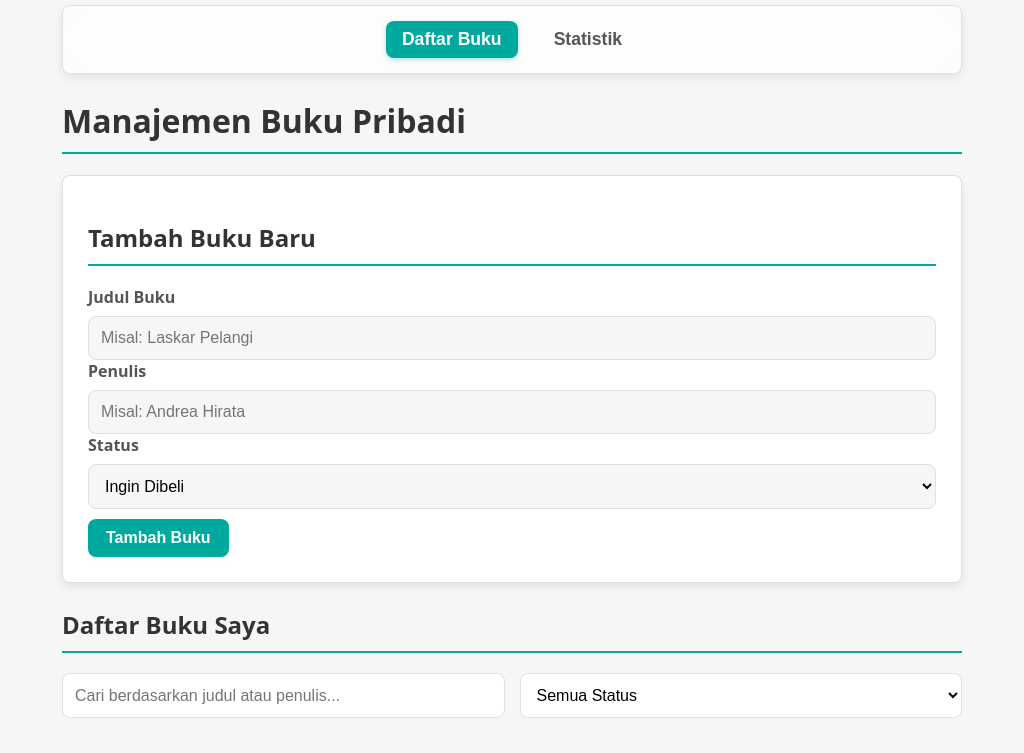
Test: Aplikasi Manajemen Buku (dengan User-Event) › 2. Penambahan buku baru melalui form
The width and height of the screenshot is (1024, 753).
Type "Buku Tes 1" into the field labelled "Judul Buku" at (512, 338), box [88,316,936,360]
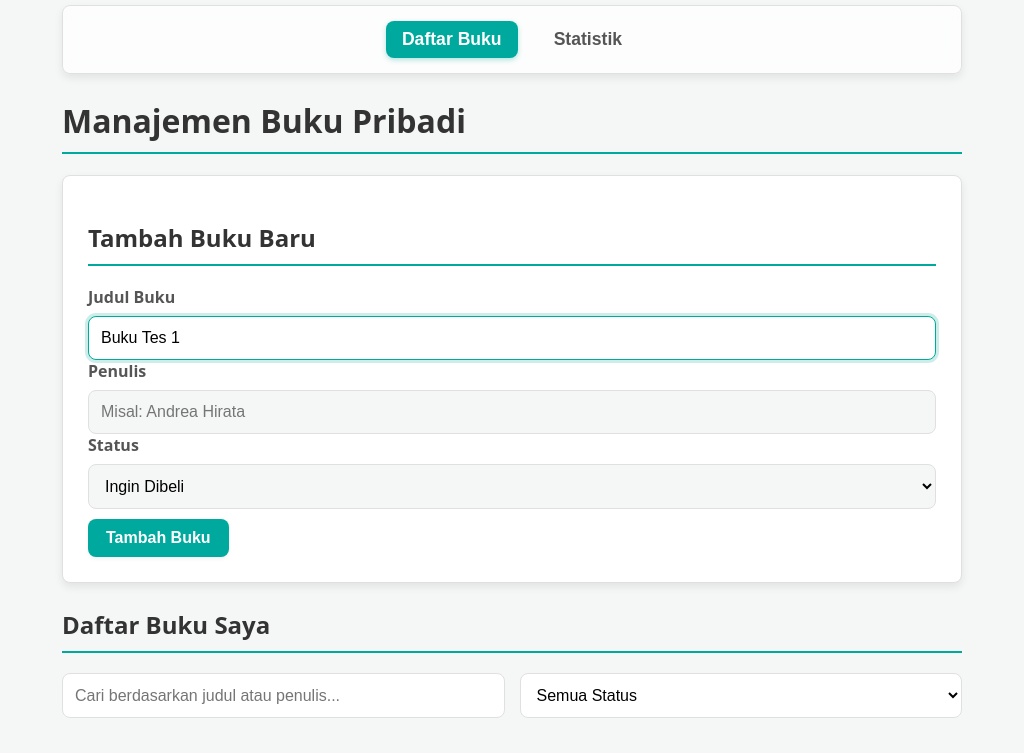
Type "Penulis Tes" into the field labelled "Penulis" at (512, 412), box [88,390,936,434]
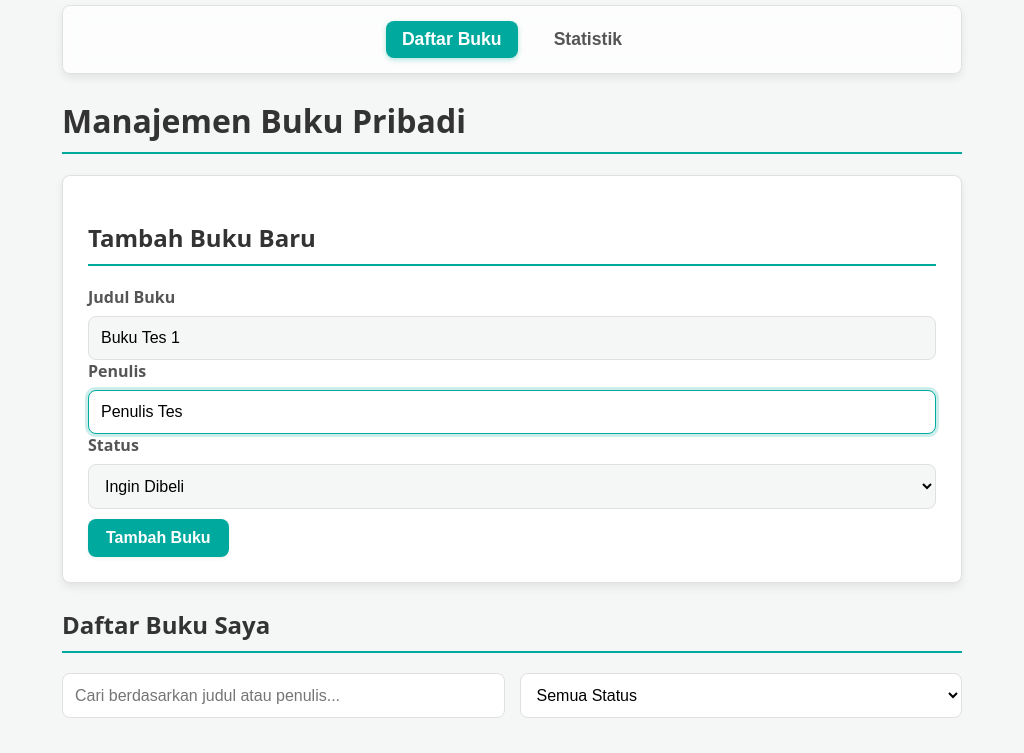
Select "Sedang Dibaca" in the dropdown labelled "Status" at (512, 487), box [88,464,936,509]
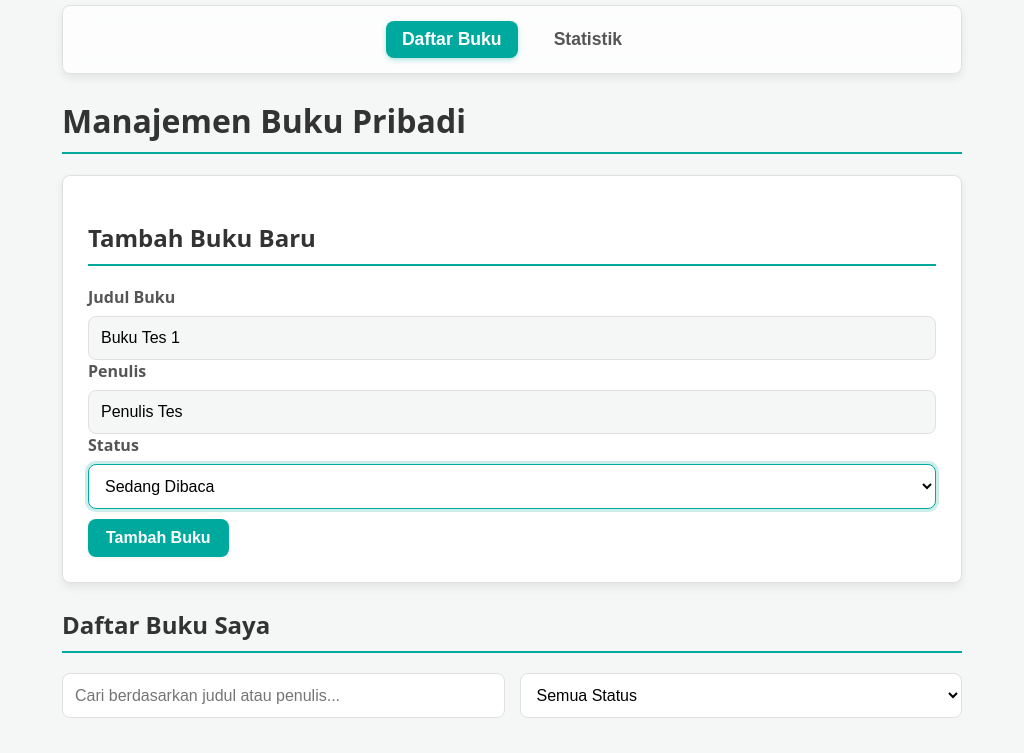
Click the button "Tambah Buku" at (158, 538), box [88,519,229,557]
(page scrolled)
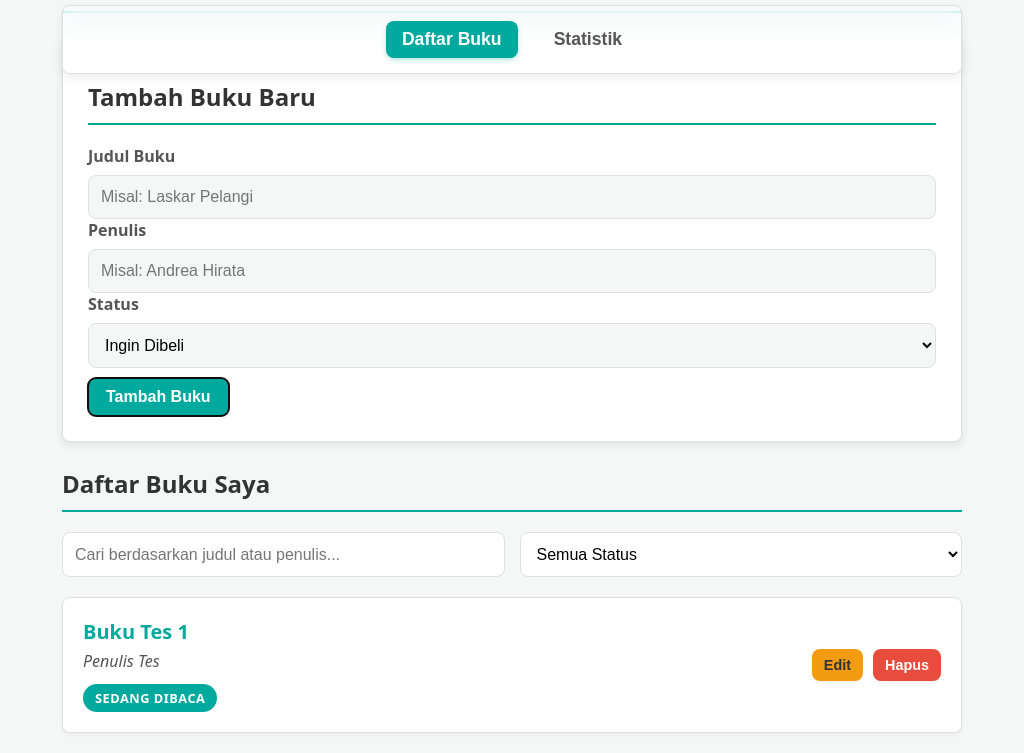
Expected: the heading "Buku Tes 1" is shown, [83,618,189,645]
Expected: the text "Penulis Tes" is shown, [83,650,160,672]
Expected: the text "Sedang Dibaca" is shown, [83,684,217,712]
